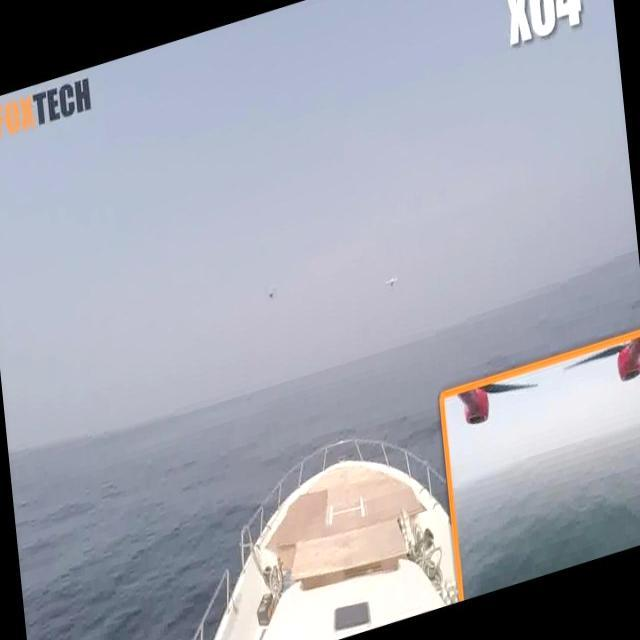drone: (263, 282, 279, 308), (386, 268, 400, 292)
